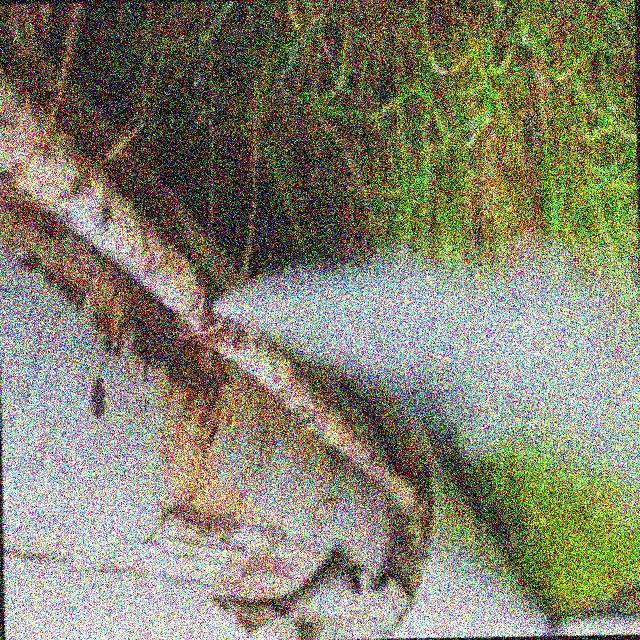Leak: (205, 262, 346, 354)
